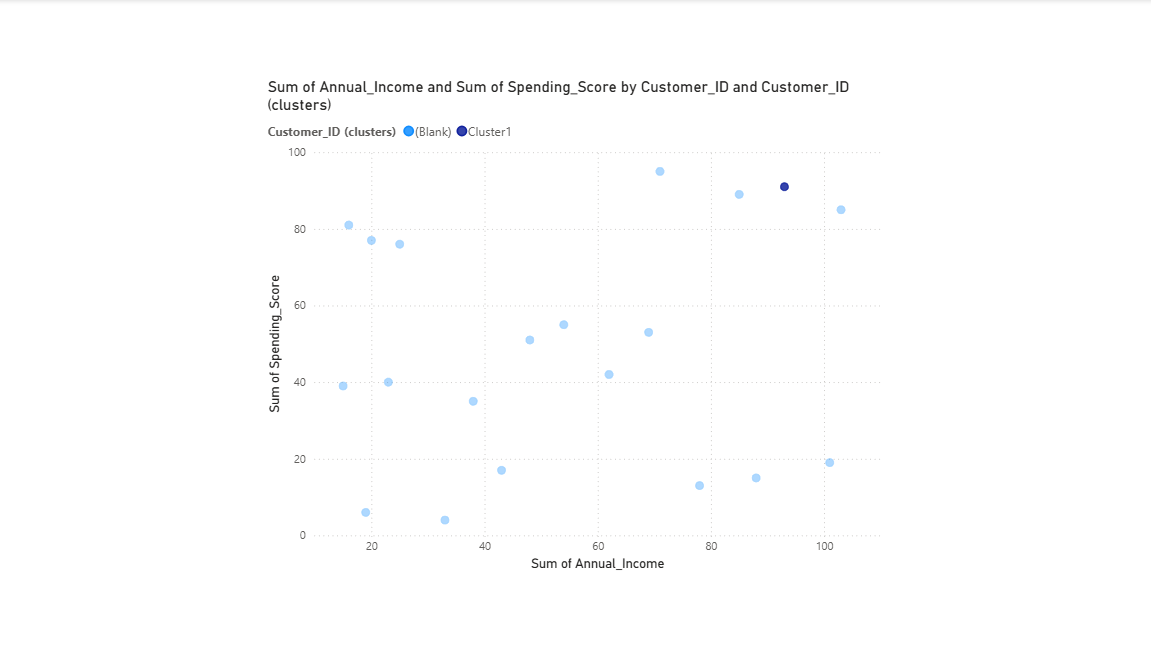

This screenshot's page, from the dashboard's own definition file:
{"tool":"powerbi","page":{"name":"Page 1","canvas":[1280,720],"ordinal":0},"visuals":[{"type":"scatterChart","fields":{"X":["Sum(Customer Data.Annual_Income)"],"Y":["Sum(Customer Data.Spending_Score)"],"Category":["Customer Data.Customer_ID"],"Series":["Customer Data.Customer_ID (clusters)"]},"box":[292.3,86.4,693,546.1],"z":2001}]}

Visuals, with their boxes in screenshot pixels (x1, y1, x2, y2), scaled from the page's 1280x720 canvas onto the 1151x648 screenshot:
scatterChart - Sum(Customer Data.Annual_Income) x Sum(Customer Data.Spending_Score): bbox(263, 78, 886, 569)
